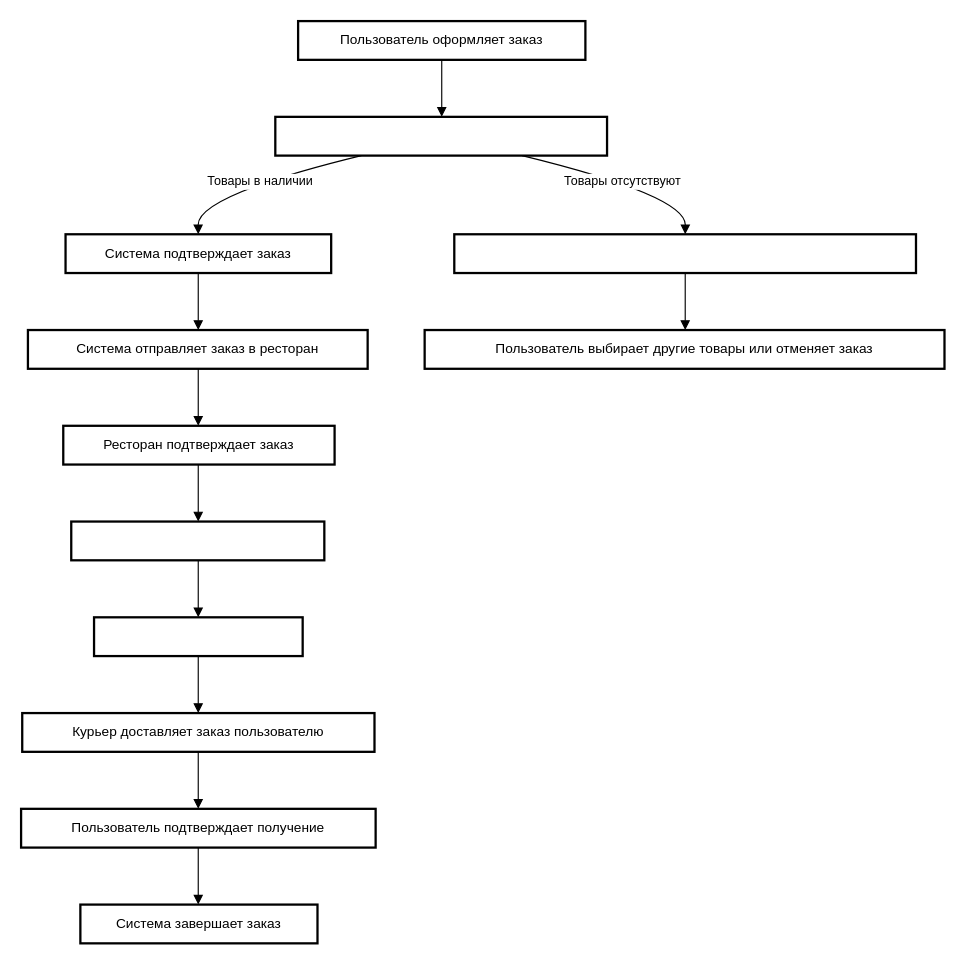
This 964x963 diagram has some shape labels left out. Here are the shapes that lost their labels. From the top down, the centre of each, then its label:
At pixel 441 135: "Система проверяет наличие товаров".
At pixel 685 253: "Система уведомляет пользователя о недоступности".
At pixel 197 540: "Система назначает курьера".
At pixel 197 636: "Курьер получает заказ".
